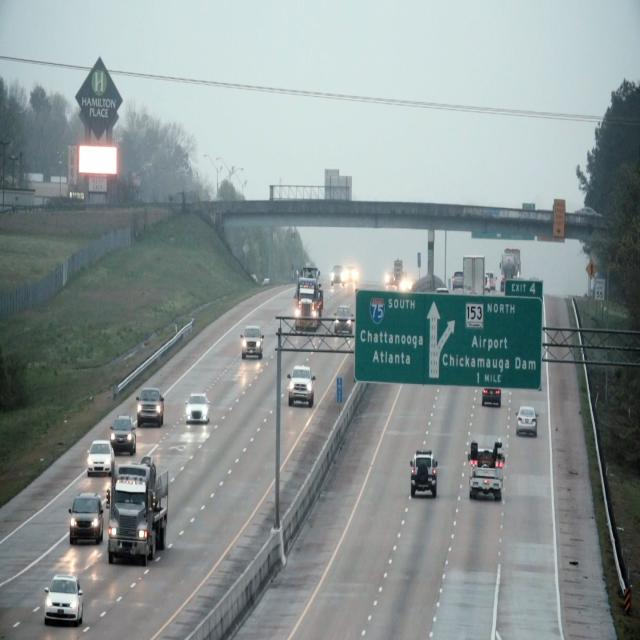Car: (107, 455, 171, 566), (468, 438, 506, 502), (44, 571, 86, 627), (294, 264, 325, 335), (68, 492, 104, 545), (410, 448, 439, 497), (287, 362, 315, 411), (87, 438, 115, 478), (111, 413, 136, 457), (138, 387, 164, 428), (514, 403, 540, 439), (187, 389, 210, 429), (240, 327, 266, 361)
